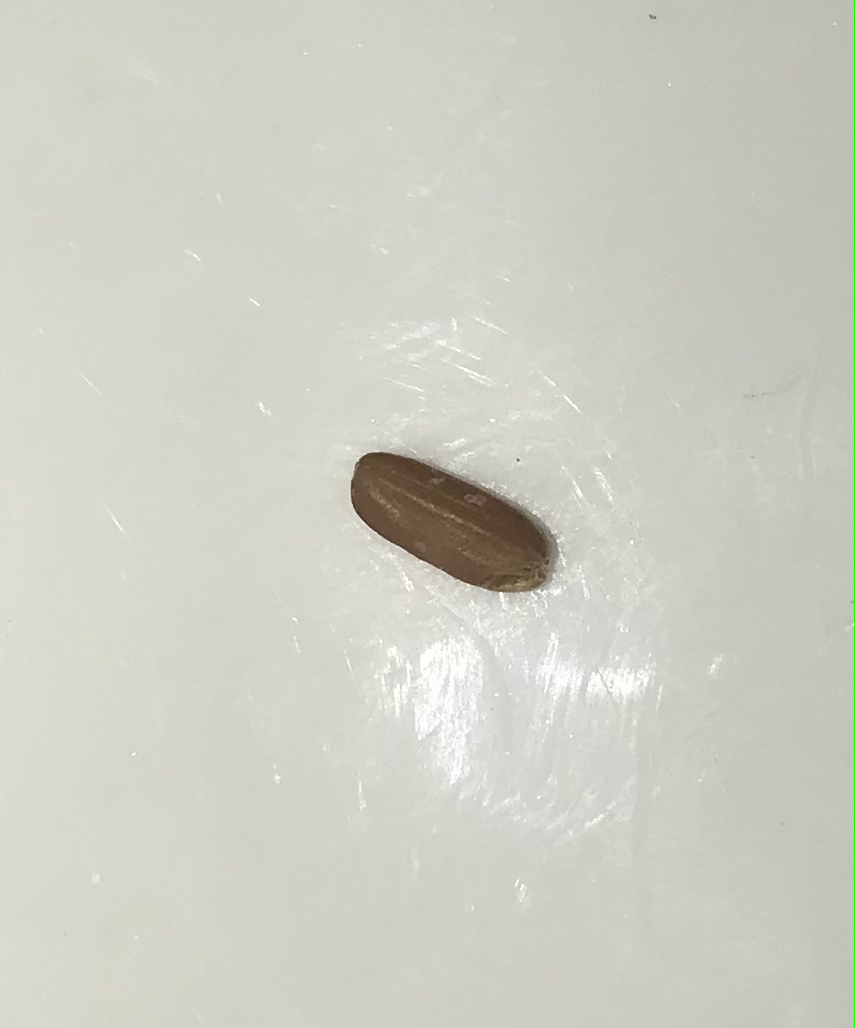Gao Lut Do: (348, 433, 564, 609)
